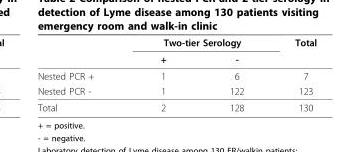table: (36, 36, 316, 112)
table column: (36, 36, 126, 112), (126, 36, 197, 112), (197, 36, 268, 112), (268, 36, 316, 112)
table column header: (36, 36, 316, 67)
table row: (36, 50, 316, 67), (36, 67, 316, 83), (36, 83, 316, 98), (36, 36, 316, 50), (36, 98, 316, 112)
table spanning cell: (126, 36, 268, 50), (268, 36, 316, 67)
